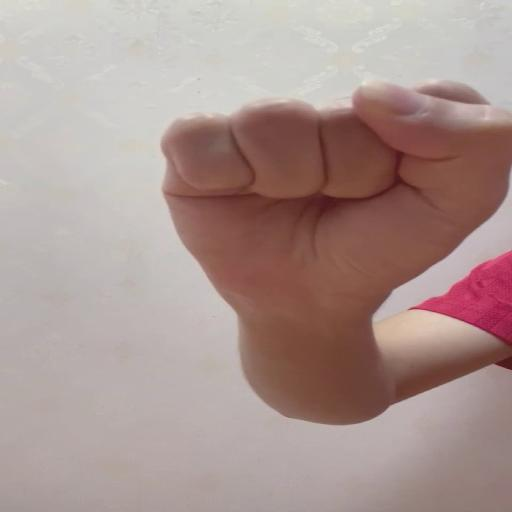fist: (158, 73, 507, 306)
